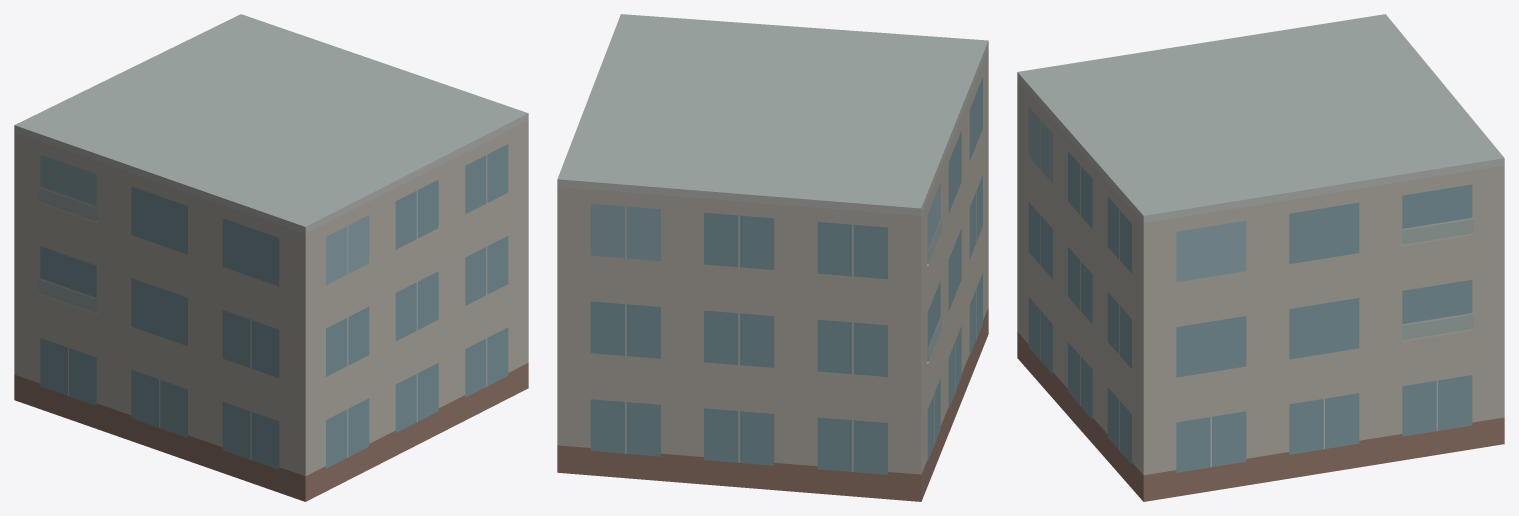
Rendered from survey-upis-32975449.glb.
3 renders of one model, left to right at view 1: azimuth 30°, elevation 25°; view 2: azimuth 150°, elevation 25°; view 3: azimuth 270°, elevation 25°, orthographic. The views are drawn at different scales.
Visible parts, largest first — view 1: survey-upis-32975449.tmp; view 2: survey-upis-32975449.tmp; view 3: survey-upis-32975449.tmp.
Part boxes in pixels (x1,y1,x2,y2): survey-upis-32975449.tmp: (14, 14, 528, 501); survey-upis-32975449.tmp: (557, 14, 988, 501); survey-upis-32975449.tmp: (1017, 14, 1504, 501).
Bounding box in the file's own units: 14.4 × 9.5 × 14.68.
